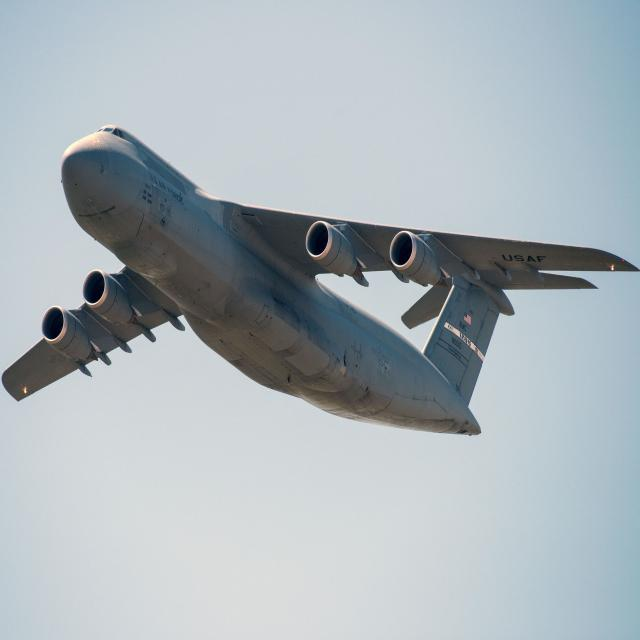C5: (0, 77, 640, 542)
